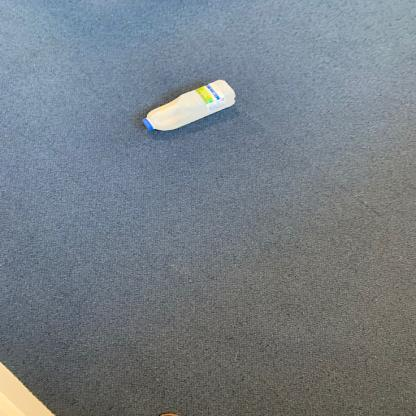trash: (141, 79, 240, 137)
